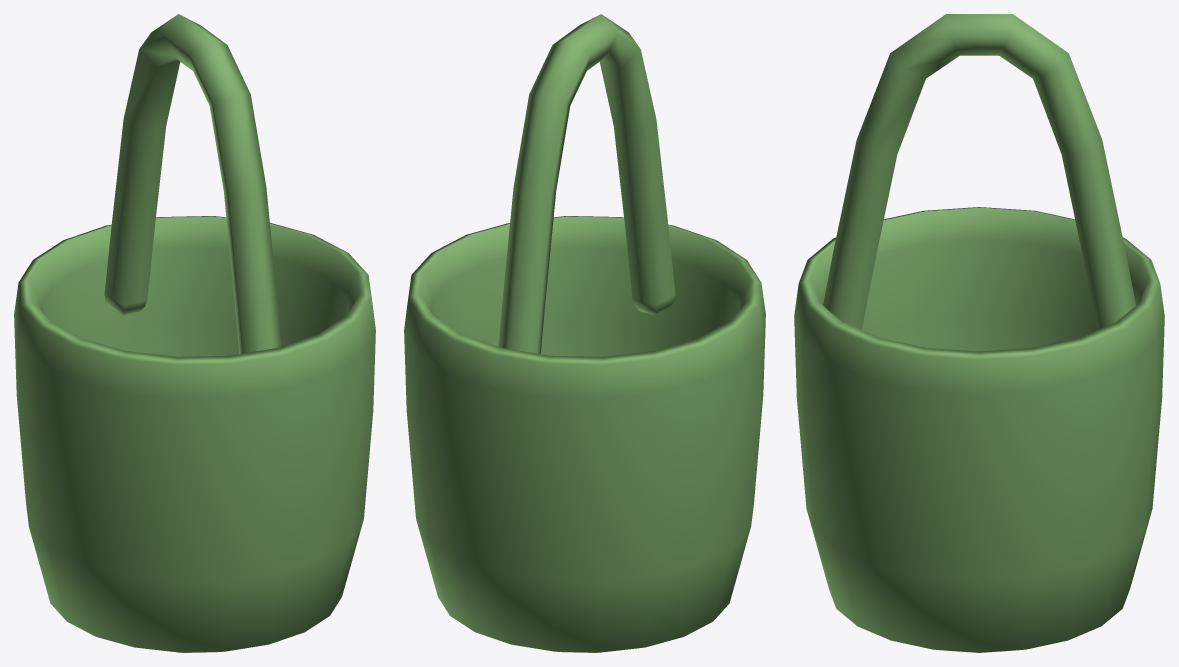
The model's file is diamond_weave_basket_bag.glb.
3 views of the same model, side by side, from view 1: azimuth 30°, elevation 25°; view 2: azimuth 150°, elevation 25°; view 3: azimuth 270°, elevation 25° (orthographic).
Parts seen in each view (by area): view 1: diamond_weave_basket_bag_ArmR; view 2: diamond_weave_basket_bag_ArmR; view 3: diamond_weave_basket_bag_ArmR.
Boxes of the visible parts, x1,y1,x2,y2 form: diamond_weave_basket_bag_ArmR: (14,14,375,652); diamond_weave_basket_bag_ArmR: (404,14,765,652); diamond_weave_basket_bag_ArmR: (794,14,1164,652).
Bounding box in the file's own units: 0.16 × 0.2835 × 0.16.
